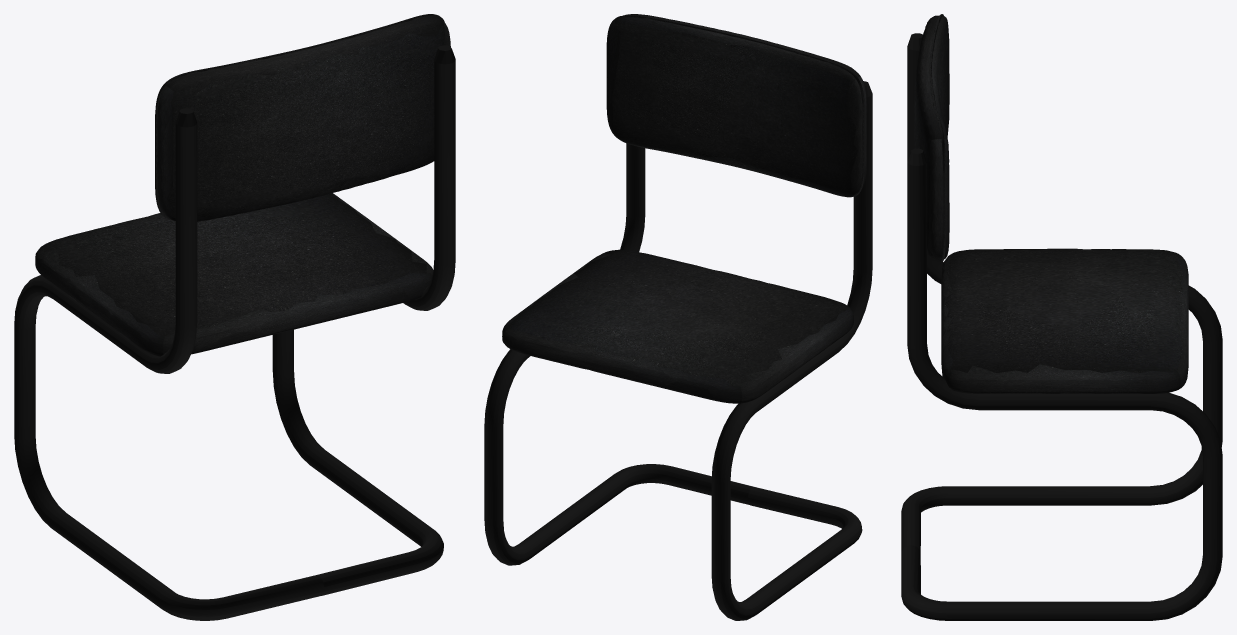
File: sillaOLD.obj
The picture shows the model from 3 angles, left to right: view 1: azimuth 30°, elevation 25°; view 2: azimuth 150°, elevation 25°; view 3: azimuth 270°, elevation 25°; orthographic projection. The views are drawn at different scales.
Visible parts, largest first — view 1: silla008; view 2: silla008; view 3: silla008.
Part boxes in pixels (bbox=[...]): silla008: bbox=[14, 14, 455, 620]; silla008: bbox=[484, 14, 872, 620]; silla008: bbox=[901, 14, 1222, 620].
Bounding box in the file's own units: 5.8 × 10.23 × 6.03.
Materials: 2 (2 with a texture image).
